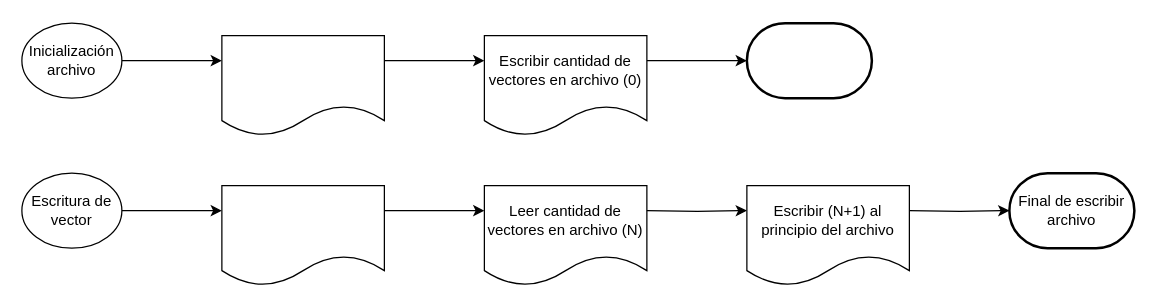
The diagram is 1158 pixels wide and 308 high, and some of its shapes have lost their labels. The shapes that lost their labels are listed below. From the top down, each one's centre as x and y in pixels, then its label:
At (808,60): "Final de inicializar archivo".
At (302,85): "Crear archivo binario Con estampa de tiempo".
At (302,235): "Añadir vector al final".
